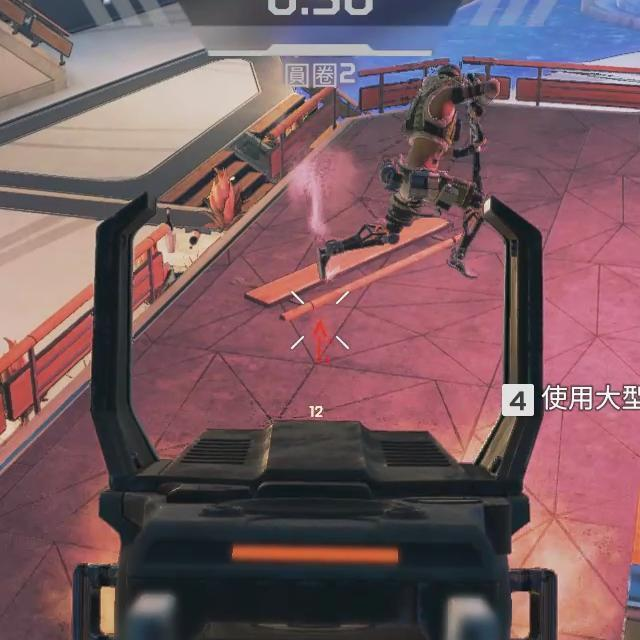avatar: (377, 62, 503, 282)
